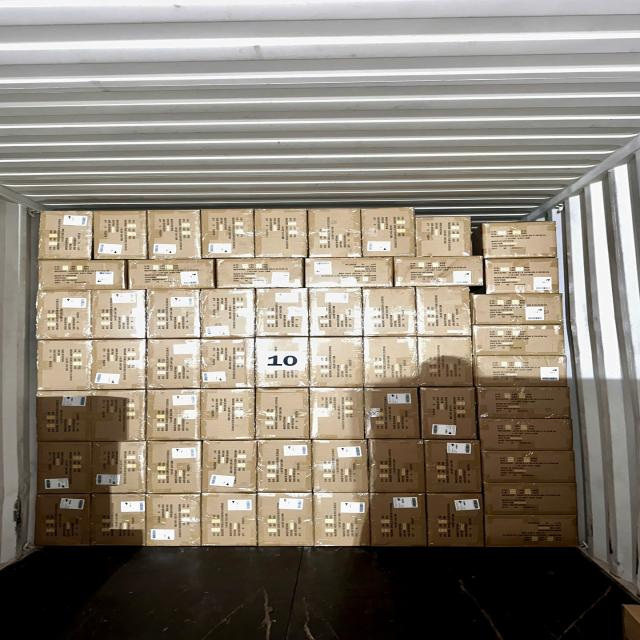Carton: (477, 416, 576, 453), (481, 481, 581, 517), (255, 490, 314, 550), (311, 491, 371, 550), (366, 438, 428, 495), (483, 513, 581, 549), (481, 448, 578, 484), (32, 492, 92, 550), (367, 492, 429, 548), (422, 438, 484, 494), (475, 385, 573, 420), (425, 492, 486, 548), (362, 385, 421, 442), (143, 492, 203, 548), (88, 388, 149, 442), (472, 354, 568, 388), (88, 492, 146, 548), (200, 438, 258, 494), (198, 286, 256, 342), (32, 289, 92, 343), (471, 323, 566, 357), (144, 388, 203, 442), (254, 386, 311, 441), (307, 286, 365, 340), (313, 439, 371, 493), (308, 386, 366, 440), (34, 389, 92, 443), (90, 443, 146, 498), (253, 286, 310, 340), (308, 335, 367, 387), (90, 288, 149, 340), (415, 335, 474, 387), (419, 386, 475, 440), (198, 387, 254, 441), (200, 492, 256, 546), (145, 288, 203, 340), (483, 219, 560, 258), (146, 208, 206, 258), (258, 438, 313, 492), (146, 439, 201, 493), (363, 336, 420, 388), (35, 441, 92, 493), (302, 256, 394, 288), (392, 255, 484, 287), (484, 258, 562, 295), (127, 258, 217, 290), (361, 286, 414, 340), (40, 260, 129, 292), (416, 286, 474, 335), (214, 258, 305, 289), (256, 337, 311, 388), (200, 338, 255, 389), (472, 294, 565, 324), (37, 340, 92, 390), (91, 210, 146, 260), (310, 207, 365, 257), (94, 340, 150, 389), (256, 208, 310, 258), (150, 339, 203, 389), (362, 207, 415, 257), (39, 210, 93, 259), (200, 208, 254, 257), (416, 214, 473, 256)
